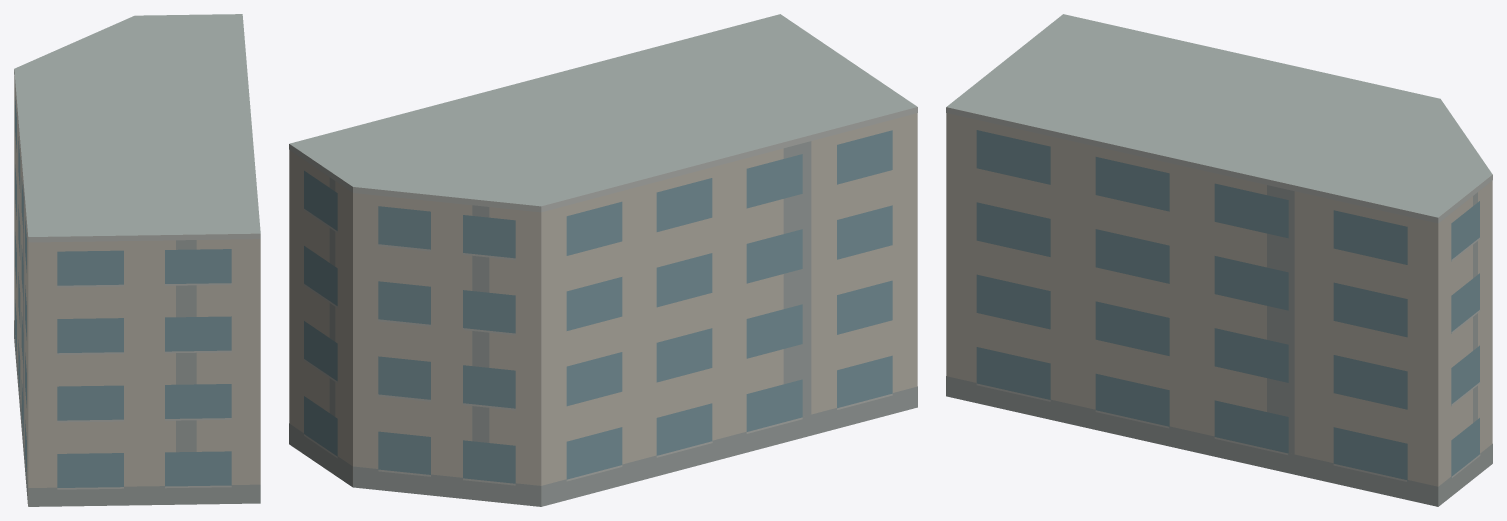
Rendered from residential-df204c5a-00a9-4d12-906a-1c49dfac28c2.glb.
3 renders of one model, left to right at view 1: azimuth 30°, elevation 25°; view 2: azimuth 150°, elevation 25°; view 3: azimuth 270°, elevation 25°, orthographic. The views are drawn at different scales.
Parts seen in each view (by area): view 1: residential-df204c5a-00a9-4d12-906a-1c49dfac28c2.tmp; view 2: residential-df204c5a-00a9-4d12-906a-1c49dfac28c2.tmp; view 3: residential-df204c5a-00a9-4d12-906a-1c49dfac28c2.tmp.
Part boxes in pixels (left/top/right/bottom): residential-df204c5a-00a9-4d12-906a-1c49dfac28c2.tmp: left=14, top=14, right=260, bottom=506; residential-df204c5a-00a9-4d12-906a-1c49dfac28c2.tmp: left=289, top=14, right=917, bottom=506; residential-df204c5a-00a9-4d12-906a-1c49dfac28c2.tmp: left=946, top=14, right=1492, bottom=506.
Bounding box in the file's own units: 18.44 × 12.2 × 20.91.
